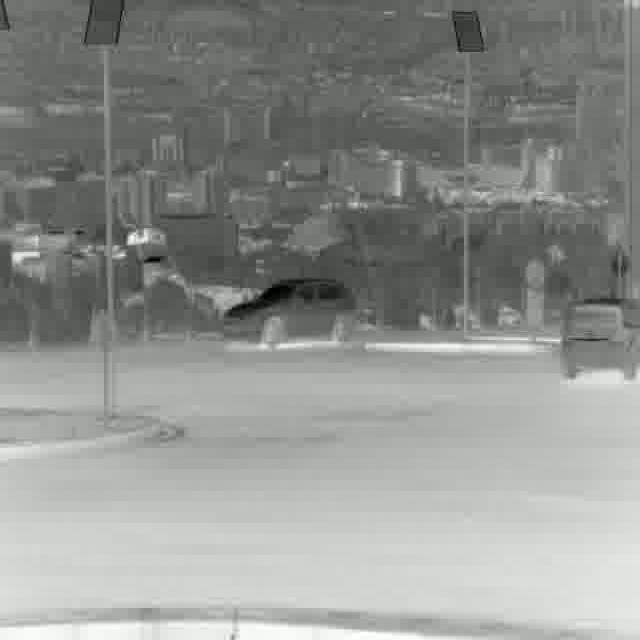Car: (223, 272, 357, 347), (556, 298, 640, 378)
